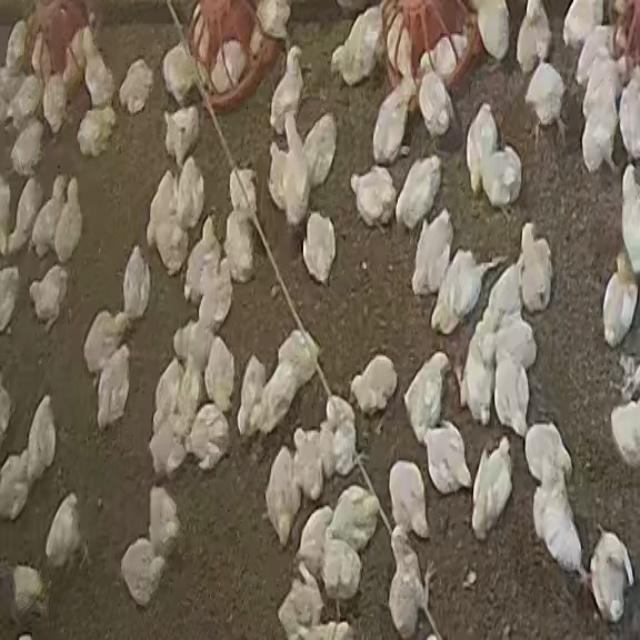chicken: (531, 481, 587, 581), (420, 422, 474, 497), (403, 352, 448, 441), (280, 109, 312, 230), (492, 349, 532, 442), (446, 250, 496, 324), (411, 211, 454, 297), (478, 138, 524, 218), (517, 220, 557, 311), (371, 80, 411, 166), (254, 364, 302, 435), (120, 537, 168, 608), (326, 487, 380, 550), (94, 342, 131, 432), (46, 489, 87, 569), (398, 154, 441, 229), (388, 458, 428, 538), (83, 310, 128, 381), (526, 60, 566, 135), (460, 325, 490, 424), (296, 508, 334, 586), (601, 266, 638, 346), (347, 168, 399, 224), (468, 103, 500, 193), (175, 346, 207, 435), (301, 114, 337, 191), (165, 34, 205, 103), (273, 45, 303, 135), (302, 211, 339, 282), (204, 334, 236, 416), (27, 400, 59, 482), (316, 536, 359, 597), (275, 330, 321, 387), (494, 314, 537, 374), (223, 206, 256, 284), (328, 397, 360, 477), (418, 68, 453, 141), (291, 427, 325, 502), (0, 451, 35, 522), (486, 260, 523, 327), (184, 226, 214, 308), (115, 56, 158, 113), (352, 354, 394, 412), (389, 528, 422, 601), (9, 564, 52, 620), (174, 316, 214, 376), (384, 5, 416, 80), (582, 52, 620, 115), (119, 244, 150, 321), (580, 109, 616, 175), (30, 188, 63, 258), (188, 404, 224, 468), (472, 1, 510, 61), (152, 360, 182, 435), (619, 167, 640, 274), (579, 23, 617, 82), (148, 420, 184, 482), (332, 32, 373, 86), (79, 99, 117, 157), (148, 487, 180, 555), (618, 68, 640, 164), (144, 169, 171, 247), (515, 1, 544, 72), (246, 0, 288, 49), (53, 197, 82, 265), (29, 263, 66, 316), (154, 213, 187, 272), (177, 159, 205, 228), (12, 115, 43, 177), (267, 138, 295, 206), (83, 48, 114, 109), (168, 104, 200, 163), (209, 251, 233, 327), (432, 32, 468, 80), (313, 417, 338, 484), (11, 74, 44, 124), (214, 41, 244, 93), (42, 74, 67, 134), (245, 384, 272, 438), (228, 164, 257, 214), (361, 5, 386, 59), (0, 175, 15, 252), (6, 19, 27, 74), (394, 72, 418, 115), (31, 32, 50, 84), (68, 25, 87, 74), (419, 48, 438, 80)
